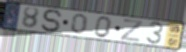0: (69, 13, 90, 35), (93, 16, 113, 39)
3: (144, 21, 165, 46)
8: (20, 7, 41, 31)
S: (41, 9, 65, 34)
Z: (119, 18, 145, 43)
